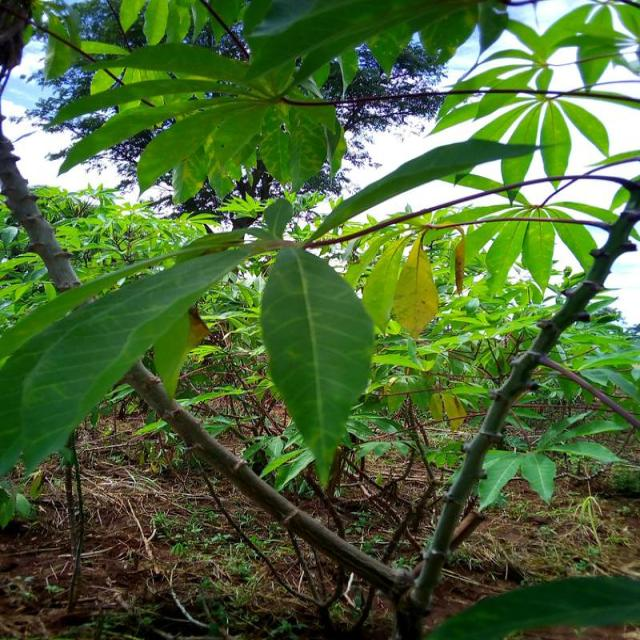cassava leaf: (259, 244, 375, 489), (391, 235, 438, 339)
